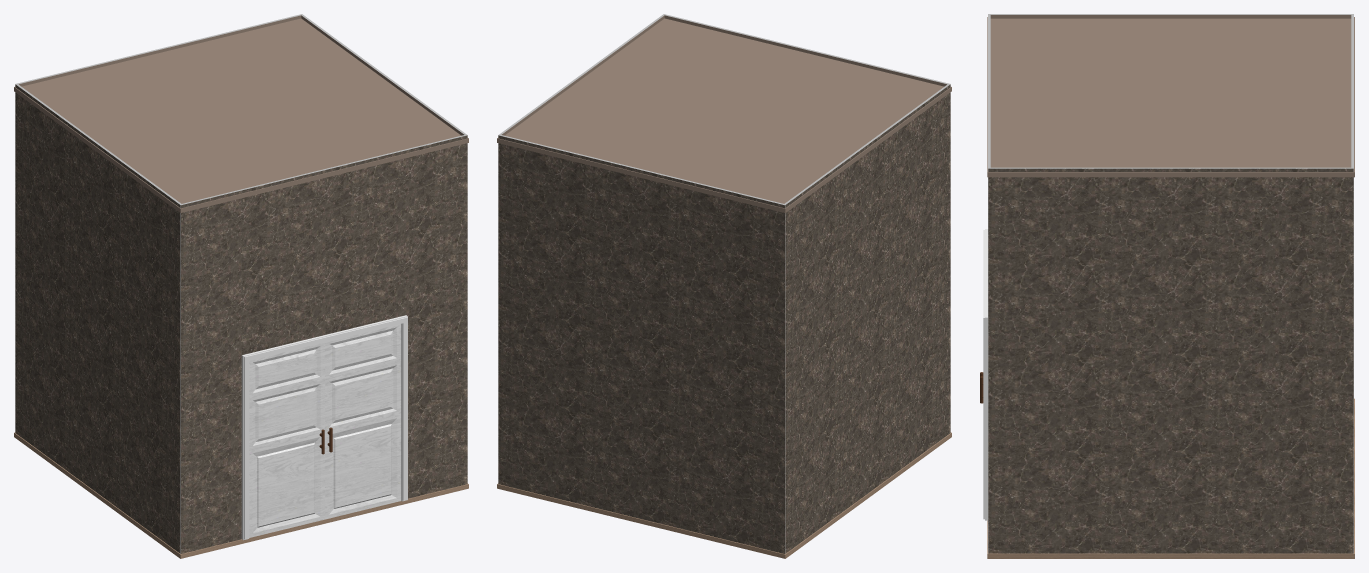
File: ProcTHOR-Train-54.glb
3 renders of one model, left to right at view 1: azimuth 30°, elevation 25°; view 2: azimuth 150°, elevation 25°; view 3: azimuth 270°, elevation 25°, orthographic. The views are drawn at different scales.
Visible parts, largest first — view 1: WallInside#wall|exterior|0.00|5.10|3.40|5.10, WallInside#wall|exterior|3.40|1.70|3.40|5.10, Ceiling#room|2|c, Doorway_Door_8b, Doorway_Door_8a, Doorway_Double_8, Floor#room|2|f, WallInside#wall|2|0.00|1.70|3.40|1.70, WallInside#wall|2|0.00|1.70|0.00|5.10; view 2: WallInside#wall|exterior|0.00|1.70|3.40|1.70, WallInside#wall|exterior|3.40|1.70|3.40|5.10, Ceiling#room|2|c, Floor#room|2|f, WallInside#wall|2|0.00|5.10|3.40|5.10, WallInside#wall|2|0.00|1.70|0.00|5.10; view 3: WallInside#wall|exterior|0.00|1.70|0.00|5.10, Ceiling#room|2|c, Floor#room|2|f, WallInside#wall|2|3.40|1.70|3.40|5.10, Doorway_Double_8, WallInside#wall|exterior|0.00|1.70|3.40|1.70, WallInside#wall|exterior|0.00|5.10|3.40|5.10.
Part boxes in pixels (x1=…): WallInside#wall|exterior|0.00|5.10|3.40|5.10: x1=181, y1=135, x2=467, y2=553; WallInside#wall|exterior|3.40|1.70|3.40|5.10: x1=15, y1=84, x2=180, y2=553; Ceiling#room|2|c: x1=14, y1=18, x2=468, y2=212; Doorway_Door_8b: x1=325, y1=324, x2=401, y2=519; Doorway_Door_8a: x1=249, y1=342, x2=324, y2=537; Doorway_Double_8: x1=241, y1=315, x2=407, y2=540; Floor#room|2|f: x1=14, y1=432, x2=468, y2=558; WallInside#wall|2|0.00|1.70|3.40|1.70: x1=16, y1=14, x2=302, y2=86; WallInside#wall|2|0.00|1.70|0.00|5.10: x1=300, y1=14, x2=466, y2=135; WallInside#wall|exterior|0.00|1.70|3.40|1.70: x1=498, y1=135, x2=784, y2=553; WallInside#wall|exterior|3.40|1.70|3.40|5.10: x1=785, y1=84, x2=950, y2=553; Ceiling#room|2|c: x1=497, y1=18, x2=951, y2=212; Floor#room|2|f: x1=497, y1=432, x2=951, y2=558; WallInside#wall|2|0.00|5.10|3.40|5.10: x1=663, y1=14, x2=948, y2=86; WallInside#wall|2|0.00|1.70|0.00|5.10: x1=499, y1=14, x2=665, y2=135; WallInside#wall|exterior|0.00|1.70|0.00|5.10: x1=988, y1=168, x2=1353, y2=553; Ceiling#room|2|c: x1=987, y1=17, x2=1354, y2=177; Floor#room|2|f: x1=987, y1=398, x2=1354, y2=558; WallInside#wall|2|3.40|1.70|3.40|5.10: x1=988, y1=14, x2=1352, y2=18; Doorway_Double_8: x1=983, y1=229, x2=987, y2=520; WallInside#wall|exterior|0.00|1.70|3.40|1.70: x1=1352, y1=14, x2=1353, y2=553; WallInside#wall|exterior|0.00|5.10|3.40|5.10: x1=988, y1=14, x2=989, y2=553.
Bounding box in the file's own units: 3.44 × 4.03 × 3.51.
62 materials, 28 textured.
